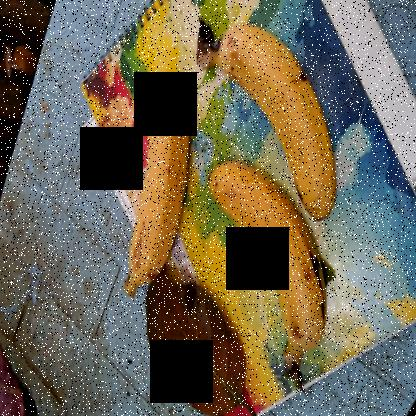freshripe: (122, 76, 189, 284)
ripe: (216, 24, 346, 225), (204, 162, 332, 356)
